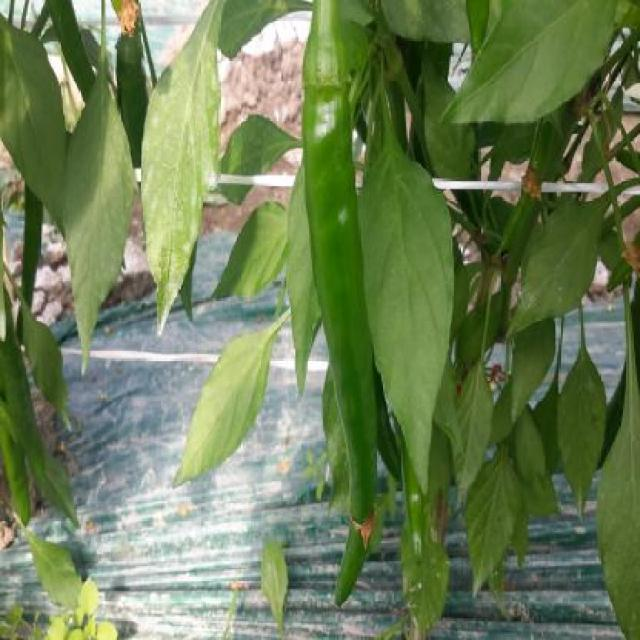green chilli: (301, 0, 377, 608)
